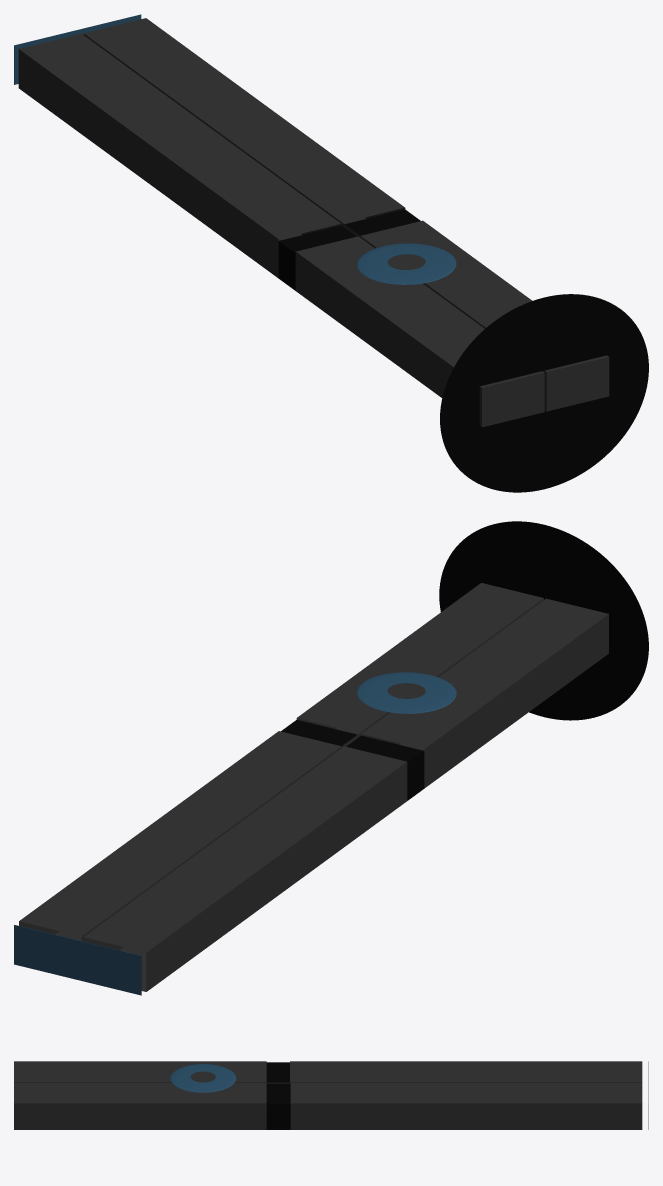
File: Vape.fbx
3 renders of one model, top to bottom at view 1: azimuth 30°, elevation 25°; view 2: azimuth 150°, elevation 25°; view 3: azimuth 270°, elevation 25°, orthographic. The views are drawn at different scales.
Visible parts, largest first — view 1: Mouthh.001; view 2: Mouthh.001; view 3: Mouthh.001.
Boxes of the visible parts, x1,y1,x2,y2 form: Mouthh.001: (14,14,648,492); Mouthh.001: (14,521,648,995); Mouthh.001: (14,1061,648,1129).
Size of the model in its own units: 12.59 by 11.05 by 48.83.
